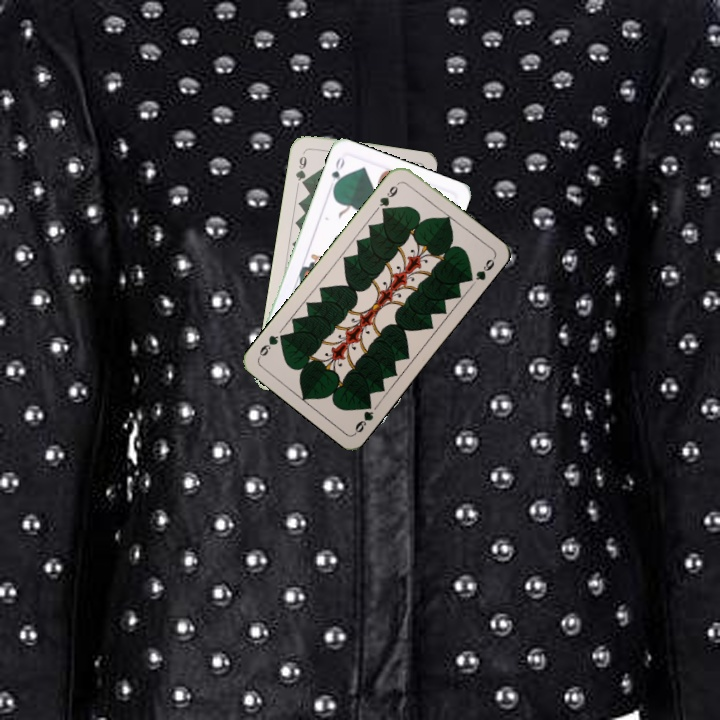G9: (351, 397, 376, 436), (375, 179, 402, 215), (291, 147, 310, 189)
GO: (327, 153, 347, 193)
